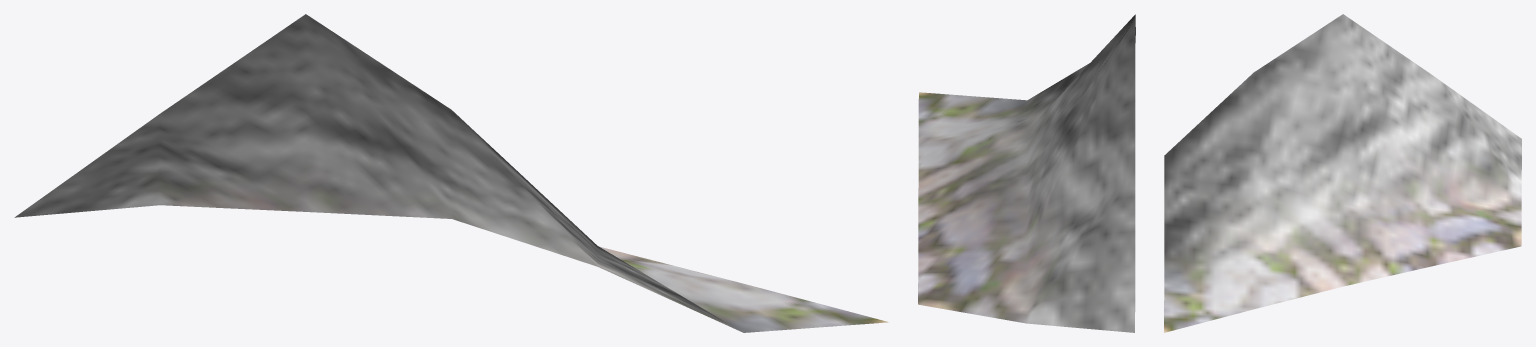
File: cover1.fbx
The picture shows the model from 3 angles, left to right: view 1: azimuth 30°, elevation 25°; view 2: azimuth 150°, elevation 25°; view 3: azimuth 270°, elevation 25°; orthographic projection. The views are drawn at different scales.
Parts seen in each view (by area): view 1: krytka1; view 2: krytka1; view 3: krytka1.
Part boxes in pixels (x1=…): krytka1: x1=14, y1=14, x2=888, y2=332; krytka1: x1=918, y1=14, x2=1135, y2=332; krytka1: x1=1164, y1=14, x2=1521, y2=332.
Bounding box in the file's own units: 2.75 × 1.39 × 2.39.
Materials: 1 (1 with a texture image).
